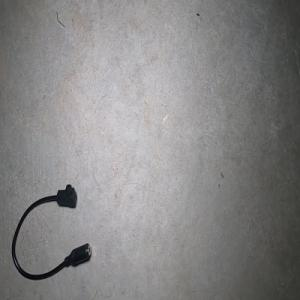Wire: (11, 184, 91, 280)
